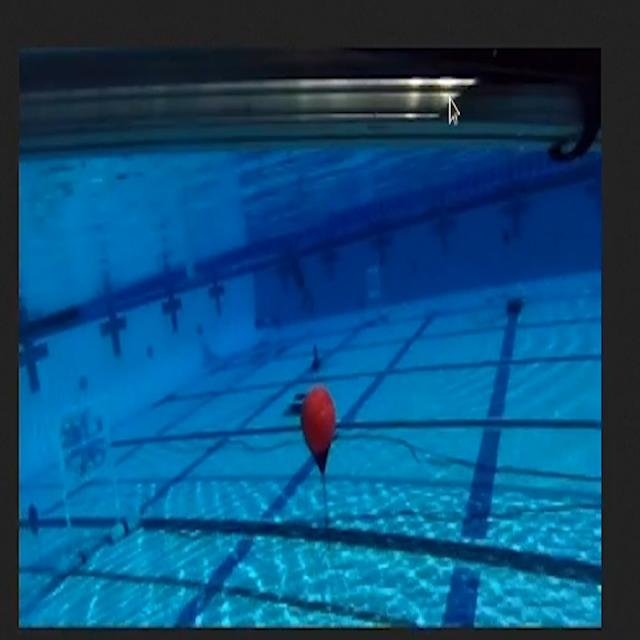Buoy: (289, 372, 345, 488)
